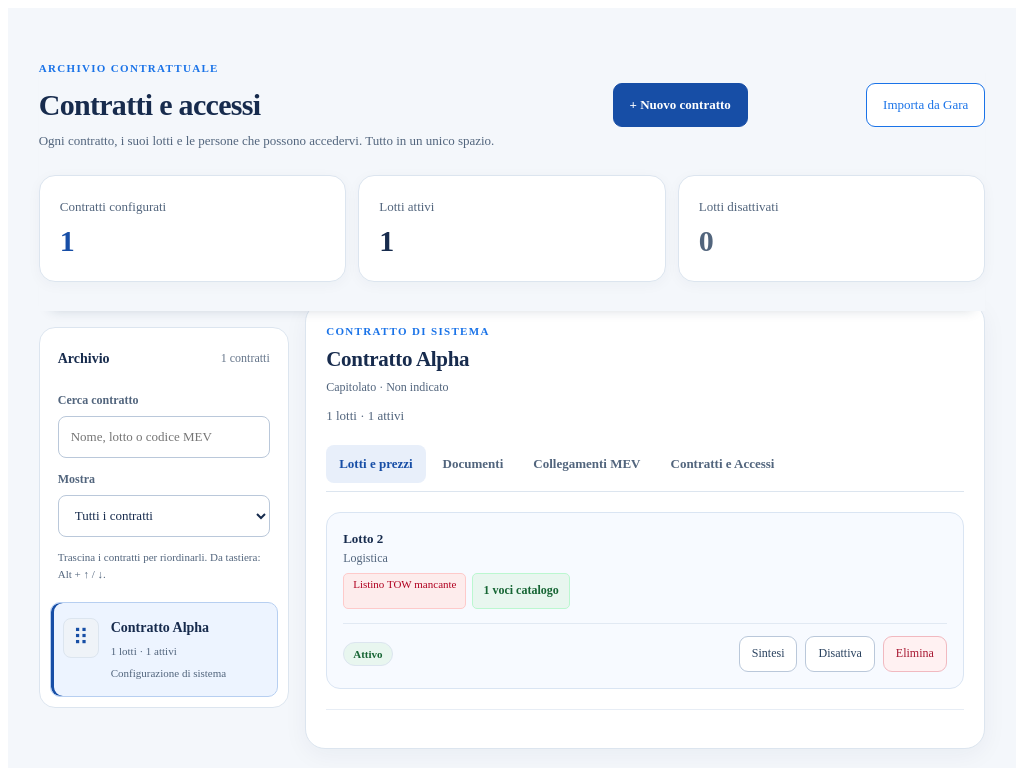
catalog displays separate saved Realizzazione and Modifica auction prices
The width and height of the screenshot is (1024, 768).
Click the button "1 voci catalogo" at (521, 591), box top-left (472, 573), bottom-right (570, 609)
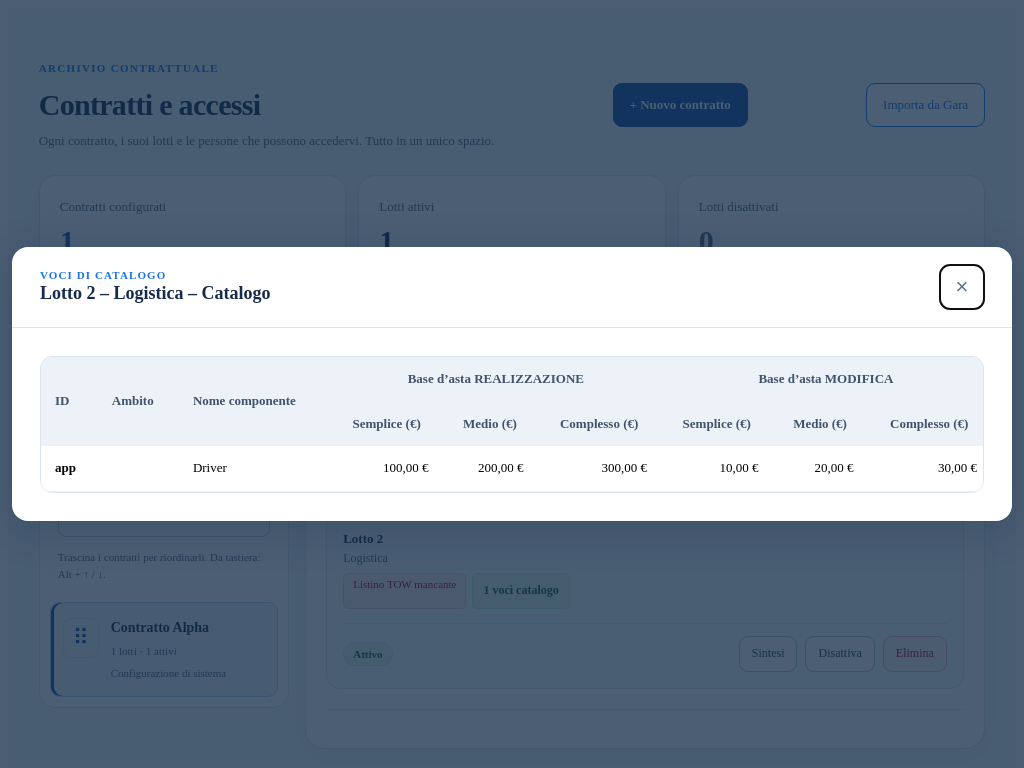
Expected: the column heading "Base d’asta REALIZZAZIONE" is shown, top-left (331, 357), bottom-right (661, 402)
Expected: the column heading "Base d’asta MODIFICA" is shown, top-left (661, 357), bottom-right (984, 402)
